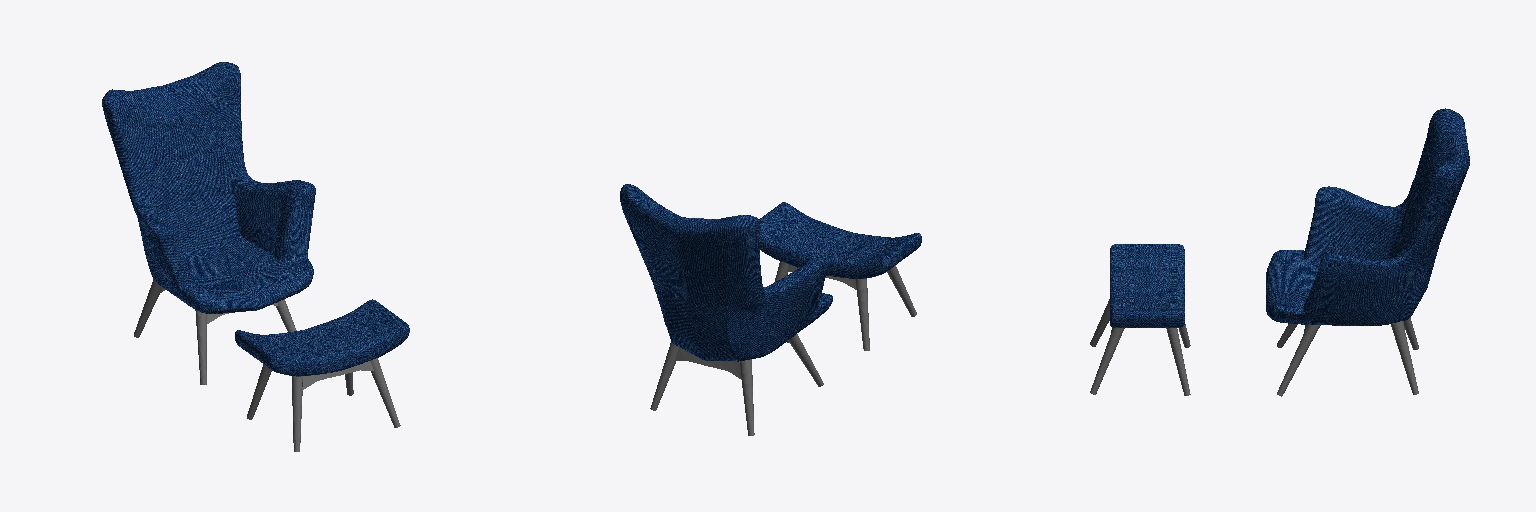
3 renders of one model, left to right at view 1: azimuth 30°, elevation 25°; view 2: azimuth 150°, elevation 25°; view 3: azimuth 270°, elevation 25°, orthographic.
Parts seen in each view (by area): view 1: Cube, Cube.003_Cube.001, Cone.004, Cone.003, Cone.007, Cone; view 2: Cube, Cube.003_Cube.001, Cone, Cone.007; view 3: Cube, Cube.003_Cube.001, Cone, Cone.004, Cone.003, Cone.007.
Part boxes in pixels (left/top/right/bottom): Cube: left=102, top=62, right=315, bottom=313; Cube.003_Cube.001: left=235, top=299, right=409, bottom=376; Cone.004: left=292, top=358, right=400, bottom=451; Cone.003: left=195, top=299, right=296, bottom=384; Cone.007: left=247, top=364, right=353, bottom=419; Cone: left=134, top=279, right=165, bottom=337; Cube: left=620, top=184, right=832, bottom=361; Cube.003_Cube.001: left=759, top=202, right=921, bottom=278; Cone: left=650, top=341, right=754, bottom=435; Cone.007: left=774, top=261, right=869, bottom=350; Cube: left=1266, top=108, right=1469, bottom=325; Cube.003_Cube.001: left=1110, top=244, right=1184, bottom=327; Cone: left=1391, top=317, right=1418, bottom=394; Cone.004: left=1090, top=299, right=1124, bottom=394; Cone.003: left=1277, top=324, right=1320, bottom=396; Cone.007: left=1166, top=324, right=1190, bottom=395.
Bounding box in the file's own units: 29.39 × 41 × 59.72.
Materials: 4 (1 with a texture image).